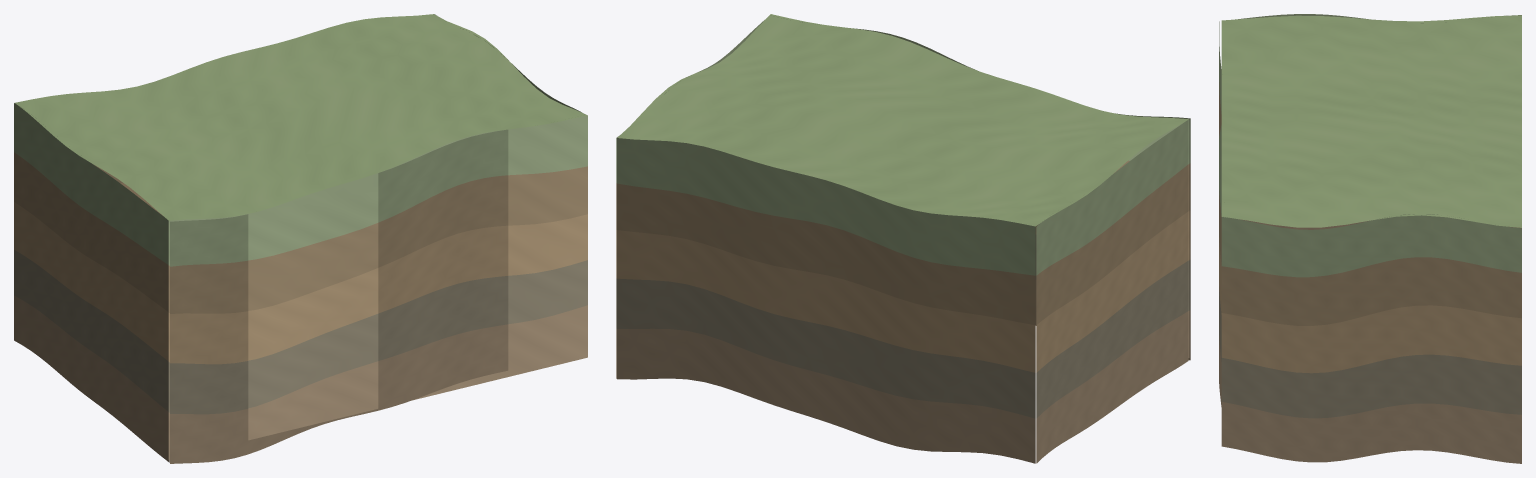
Rendered from soil-cutaway.glb.
3 renders of one model, left to right at view 1: azimuth 30°, elevation 25°; view 2: azimuth 150°, elevation 25°; view 3: azimuth 270°, elevation 25°, orthographic. The views are drawn at different scales.
Visible parts, largest first — view 1: Estrato 1, Estrato 5, Estrato 3, Estrato 2, Estrato 4; view 2: Estrato 1, Estrato 5, Estrato 4, Estrato 2, Estrato 3; view 3: Estrato 1, Estrato 2, Estrato 3, Estrato 4, Estrato 5.
Boxes of the visible parts, x1=… form: Estrato 1: x1=14, y1=14, x2=587, y2=266; Estrato 5: x1=14, y1=295, x2=587, y2=463; Estrato 3: x1=14, y1=183, x2=587, y2=364; Estrato 2: x1=14, y1=152, x2=587, y2=313; Estrato 4: x1=14, y1=250, x2=587, y2=414; Estrato 1: x1=616, y1=14, x2=1190, y2=275; Estrato 5: x1=616, y1=280, x2=1190, y2=463; Estrato 4: x1=616, y1=235, x2=1190, y2=418; Estrato 2: x1=616, y1=160, x2=1190, y2=325; Estrato 3: x1=616, y1=210, x2=1190, y2=372; Estrato 1: x1=1219, y1=14, x2=1521, y2=277; Estrato 2: x1=1219, y1=82, x2=1521, y2=325; Estrato 3: x1=1219, y1=130, x2=1521, y2=373; Estrato 4: x1=1219, y1=287, x2=1521, y2=418; Estrato 5: x1=1219, y1=219, x2=1521, y2=463.
Size of the model in its own units: 4.47 by 2.67 by 2.82.
